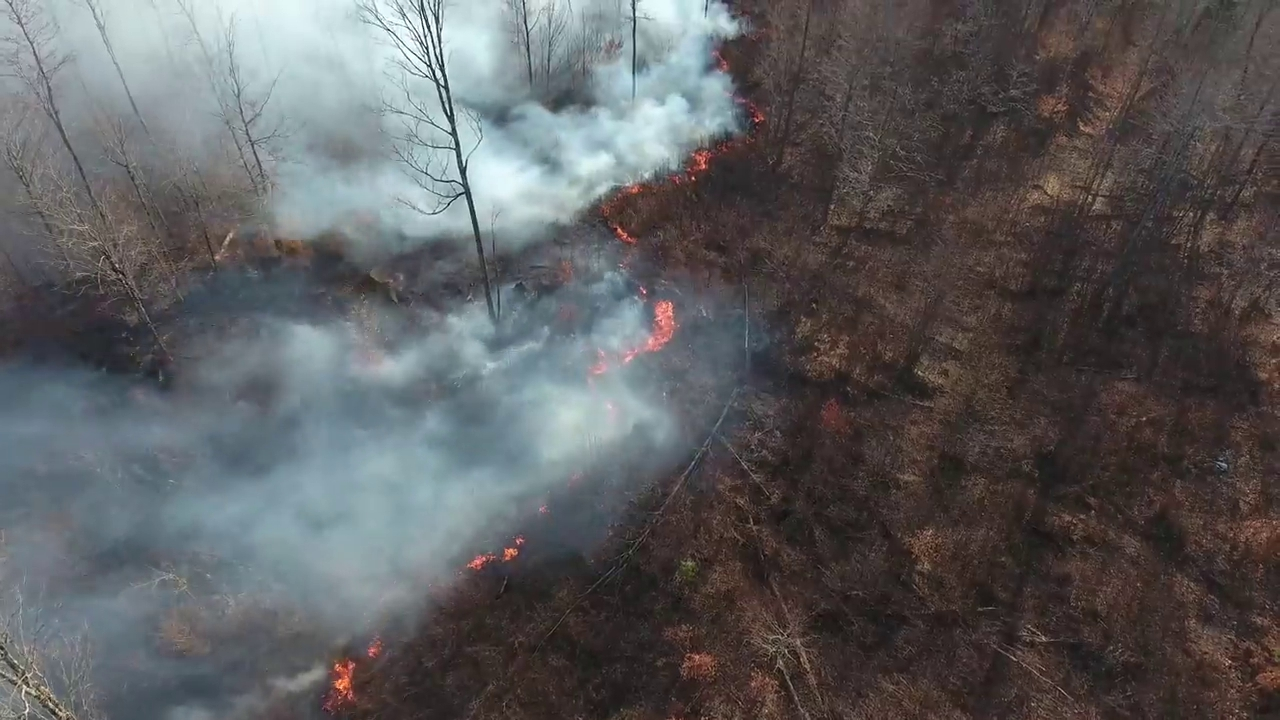forest_fire: (600, 96, 764, 245), (587, 299, 677, 379), (465, 535, 523, 571), (322, 658, 356, 714), (367, 637, 381, 658), (715, 49, 727, 70), (560, 265, 572, 277), (537, 503, 549, 514), (568, 473, 579, 483), (639, 286, 647, 299)
